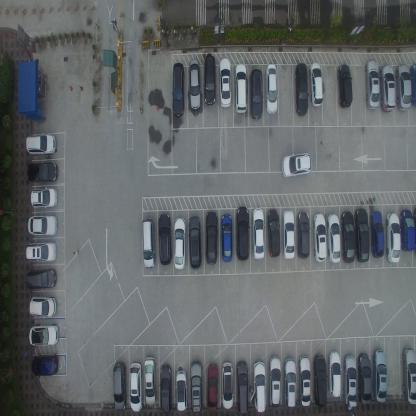car: (400, 346, 416, 404), (372, 348, 388, 403), (25, 266, 58, 292), (235, 205, 250, 261), (266, 207, 282, 259), (379, 62, 395, 114), (112, 360, 128, 412), (294, 62, 309, 117), (24, 240, 58, 264), (156, 212, 171, 266), (25, 132, 56, 158), (28, 322, 60, 347), (170, 60, 184, 117), (355, 206, 369, 263), (342, 353, 356, 410), (341, 210, 356, 263), (357, 353, 372, 406), (187, 214, 201, 270), (204, 210, 218, 266), (396, 64, 412, 113), (251, 360, 266, 412), (282, 152, 312, 178), (172, 216, 186, 271), (313, 354, 327, 409), (26, 159, 58, 183), (280, 209, 295, 260), (337, 62, 353, 109), (365, 58, 380, 108), (312, 212, 327, 262), (30, 352, 60, 377), (27, 213, 57, 238), (202, 53, 216, 106), (386, 211, 400, 264), (235, 358, 248, 415), (369, 210, 384, 259), (249, 70, 263, 122), (141, 217, 155, 269), (189, 359, 202, 414), (283, 357, 297, 408), (326, 212, 340, 263), (143, 356, 157, 407), (129, 361, 143, 412), (399, 208, 415, 252), (268, 354, 281, 408), (265, 62, 278, 115), (187, 58, 200, 110), (298, 355, 311, 407), (328, 349, 342, 397), (30, 185, 58, 209), (220, 212, 233, 263), (235, 61, 247, 116), (28, 296, 58, 318), (309, 62, 323, 108), (296, 210, 309, 259), (252, 207, 264, 260), (206, 362, 218, 415), (160, 364, 172, 416), (218, 59, 230, 109), (221, 361, 233, 410), (174, 369, 187, 412), (410, 63, 416, 106)
